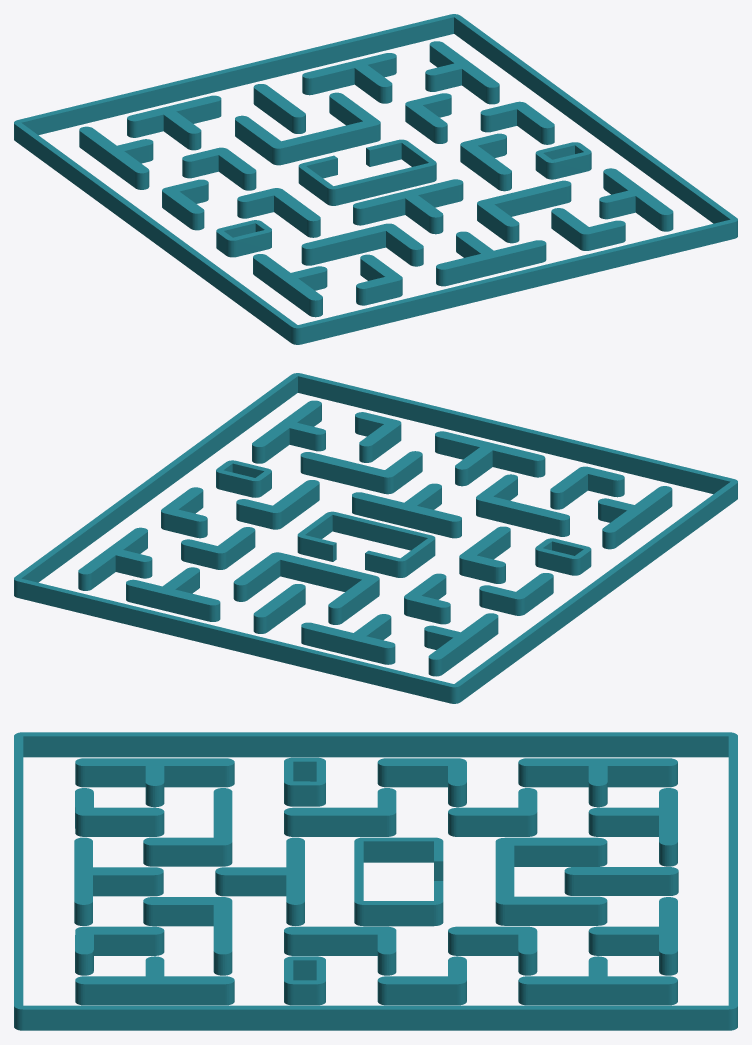
The model's file is fmaze.obj.
3 views of the same model, one above another, from view 1: azimuth 30°, elevation 25°; view 2: azimuth 150°, elevation 25°; view 3: azimuth 270°, elevation 25° (orthographic). The views are drawn at different scales.
Parts seen in each view (by area): view 1: Cube.001_Cube.026; view 2: Cube.001_Cube.026; view 3: Cube.001_Cube.026.
Part boxes in pixels (bbox=[...]): Cube.001_Cube.026: bbox=[14, 14, 737, 344]; Cube.001_Cube.026: bbox=[14, 373, 737, 703]; Cube.001_Cube.026: bbox=[14, 732, 737, 1030].
Bounding box in the file's own units: 27.98 × 1 × 30.87.
